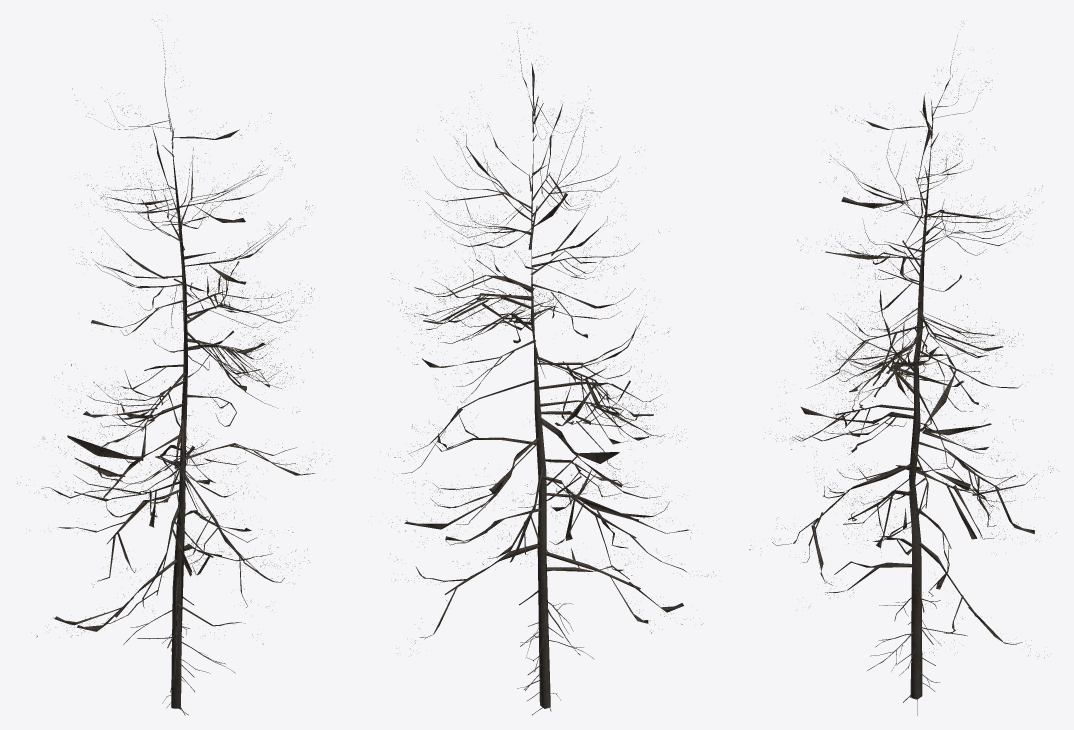
File: pine_sapling_medium_0.glb
The picture shows the model from 3 angles, left to right: view 1: azimuth 30°, elevation 25°; view 2: azimuth 150°, elevation 25°; view 3: azimuth 270°, elevation 25°; orthographic projection. The views are drawn at different scales.
Parts seen in each view (by area): view 1: pine_sapling_medium_a_LOD0.001, pine_sapling_medium_a_LOD0.002, pine_sapling_medium_a_LOD0; view 2: pine_sapling_medium_a_LOD0.001, pine_sapling_medium_a_LOD0.002, pine_sapling_medium_a_LOD0; view 3: pine_sapling_medium_a_LOD0.001, pine_sapling_medium_a_LOD0.002, pine_sapling_medium_a_LOD0.
Part boxes in pixels (<box>): pine_sapling_medium_a_LOD0.001: <box>41,32,315,708</box>; pine_sapling_medium_a_LOD0.002: <box>17,19,329,644</box>; pine_sapling_medium_a_LOD0: <box>123,596,235,715</box>; pine_sapling_medium_a_LOD0.001: <box>401,31,688,708</box>; pine_sapling_medium_a_LOD0.002: <box>371,24,713,655</box>; pine_sapling_medium_a_LOD0: <box>517,590,594,715</box>; pine_sapling_medium_a_LOD0.001: <box>772,35,1036,699</box>; pine_sapling_medium_a_LOD0.002: <box>749,21,1056,657</box>; pine_sapling_medium_a_LOD0: <box>867,588,967,715</box>.
Bounding box in the file's own units: 5.11 × 11.46 × 4.64.
Materials: 3 (3 with a texture image).
